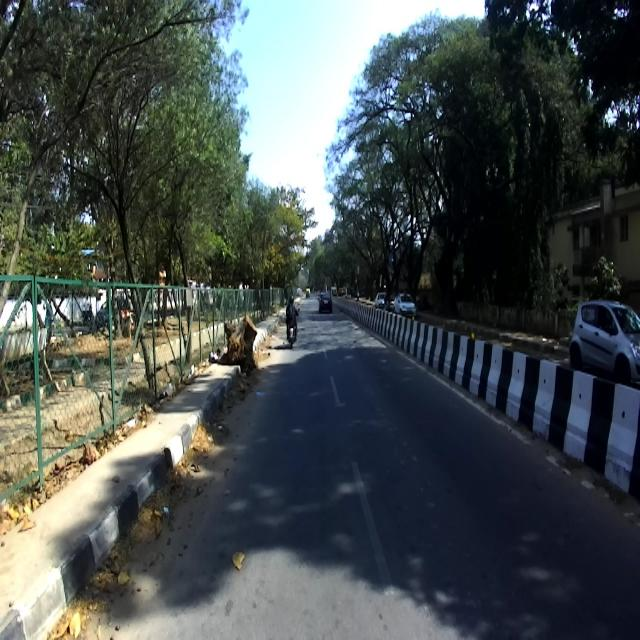Car_Honda: (317, 287, 334, 313)
Car_Maruti-Suzuki: (568, 301, 640, 384)
